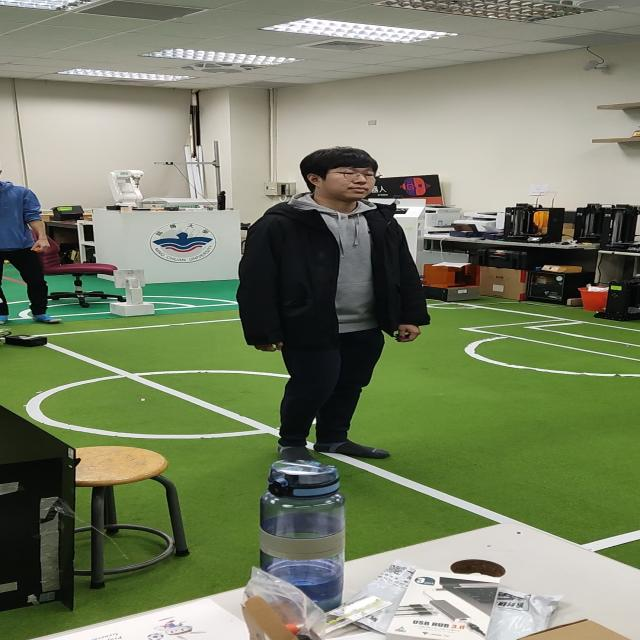person: (231, 139, 443, 451), (2, 176, 61, 324)
